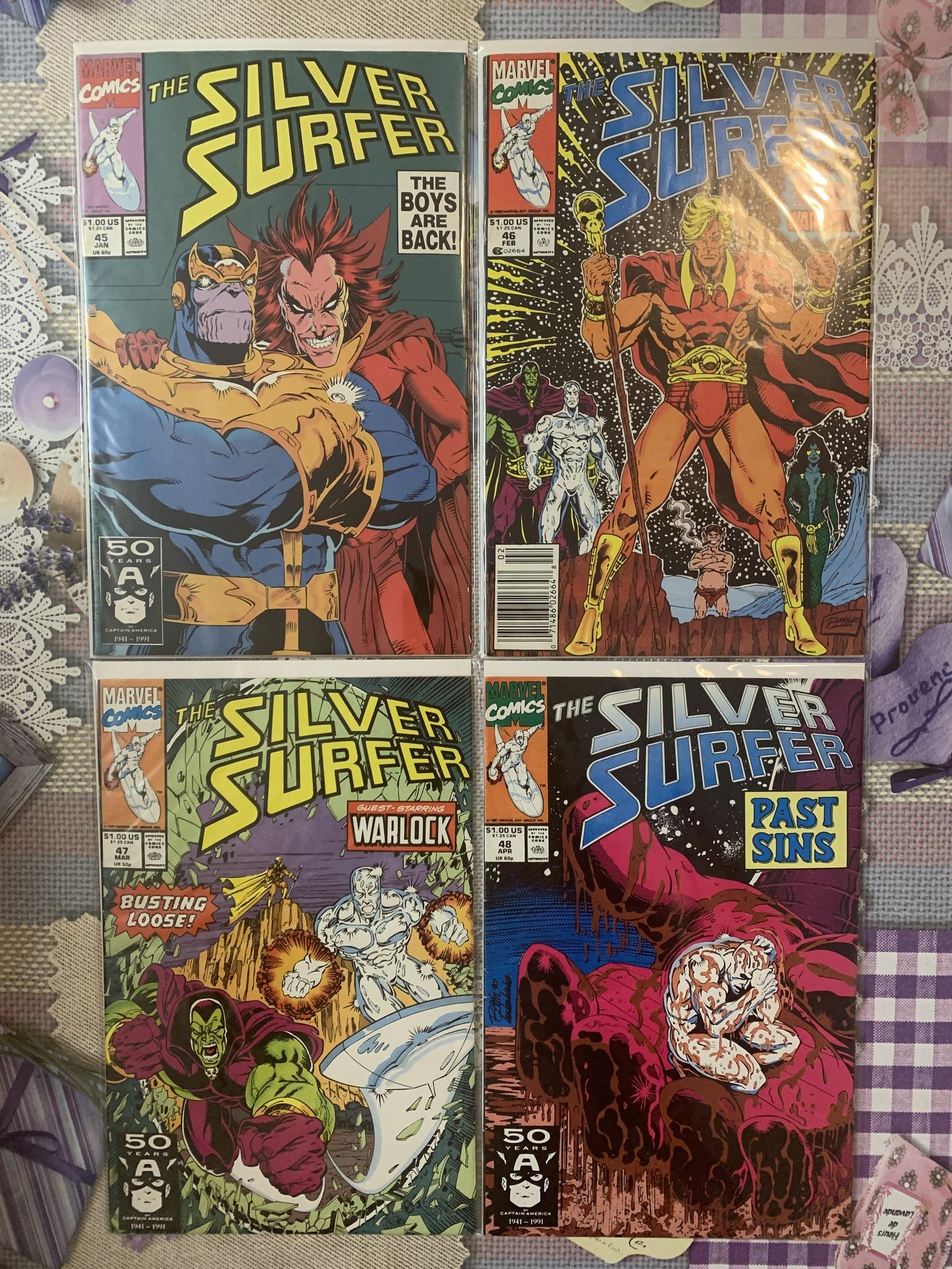comic: (75, 38, 473, 658), (478, 42, 875, 658), (479, 658, 864, 1239), (95, 658, 478, 1239)
